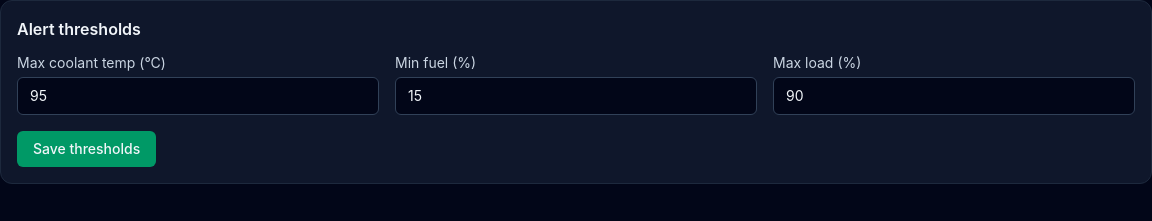
ThresholdsForm › shows an error for an empty field
Clear the number field labelled "Min fuel (%)" at (576, 96), box left=395, top=77, right=757, bottom=115
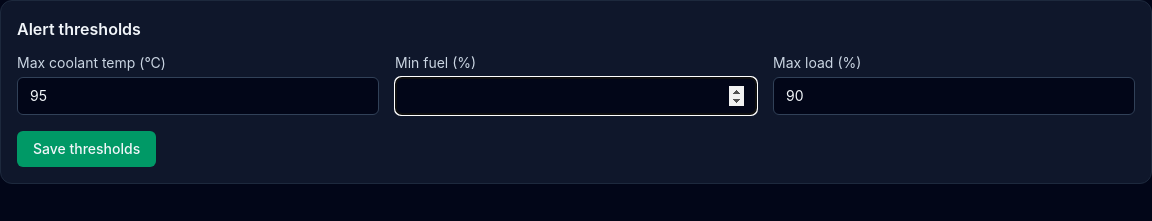
Click the button "Save thresholds" at (87, 149), box left=17, top=131, right=156, bottom=167
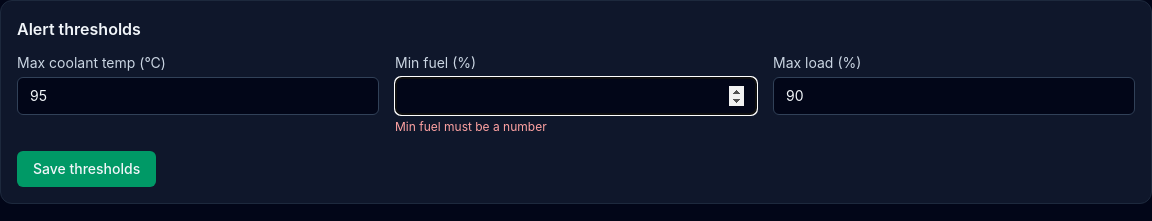
Expected: the text "Min fuel must be a number" is shown, left=395, top=119, right=547, bottom=134
